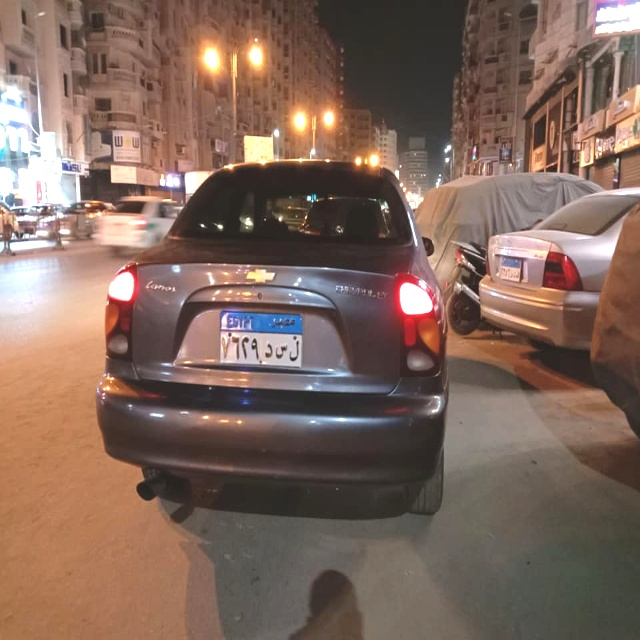License Plate: (217, 309, 305, 371)
